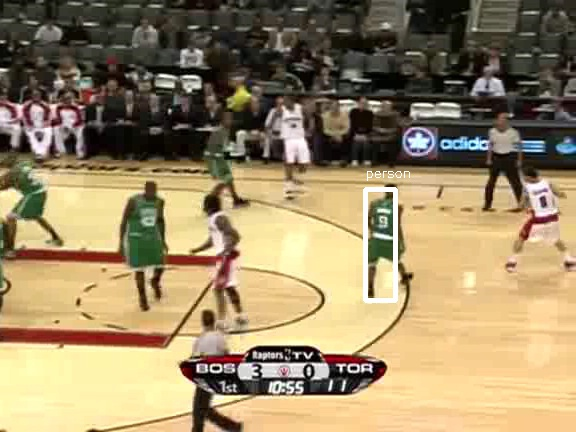person: (368, 193, 402, 274), (367, 193, 401, 274), (369, 193, 403, 274), (368, 192, 402, 273), (368, 194, 402, 275)
target_negative: (62, 17, 184, 76), (299, 358, 412, 397), (433, 287, 523, 332), (188, 176, 211, 282), (252, 313, 339, 328), (507, 62, 515, 142)
